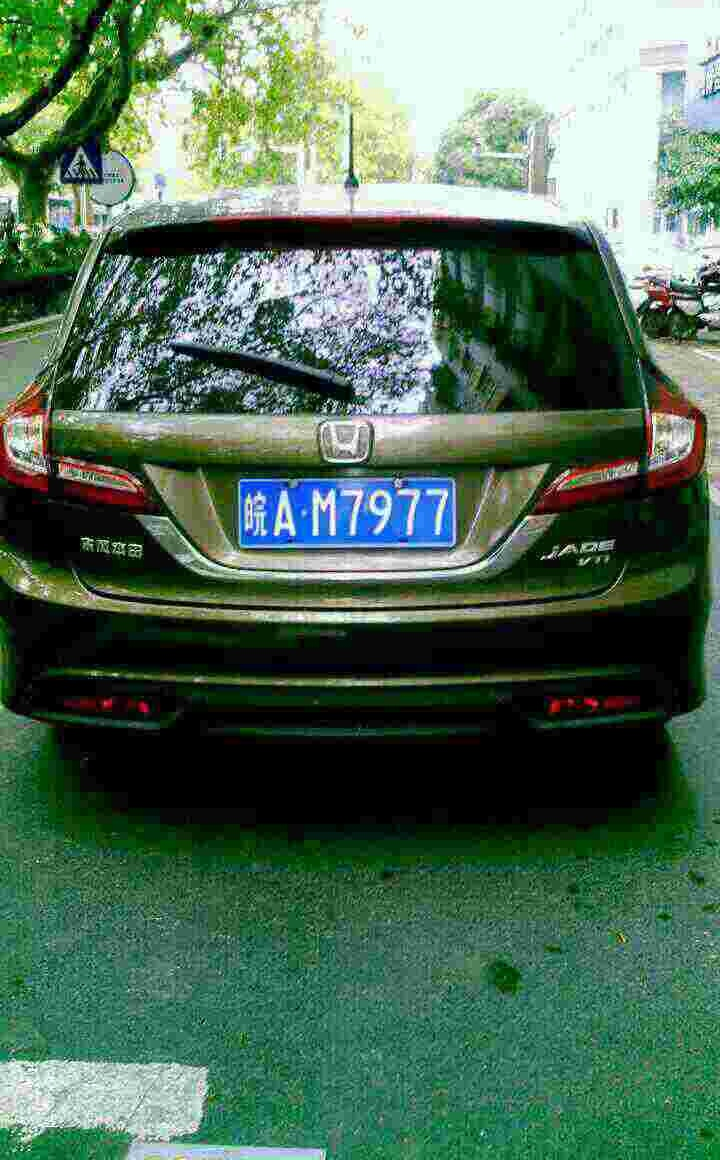license_plate: (244, 477, 452, 551)
